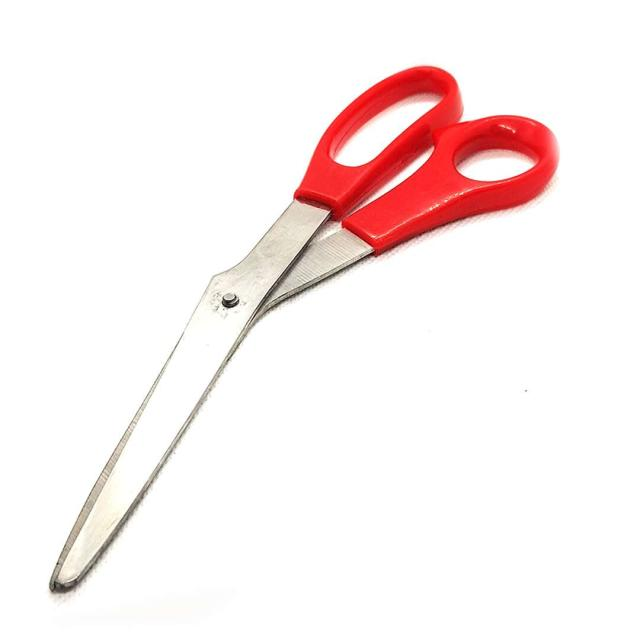scissor: (32, 42, 572, 618)
